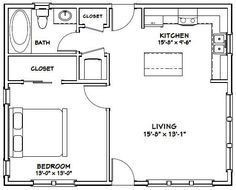door: (108, 156, 138, 190), (79, 86, 112, 109), (111, 4, 134, 33), (53, 28, 80, 51)
room: (1, 3, 235, 189)
wall: (53, 2, 233, 10), (1, 2, 11, 92), (2, 104, 12, 163), (104, 109, 112, 182), (61, 76, 107, 87), (8, 51, 79, 57), (4, 175, 33, 188), (226, 51, 233, 94), (75, 179, 114, 186), (223, 7, 232, 35), (73, 52, 82, 80), (104, 52, 111, 85), (10, 3, 35, 11), (227, 169, 236, 188), (133, 180, 148, 188), (213, 180, 232, 185)
window: (151, 178, 214, 187), (34, 176, 74, 188), (227, 93, 233, 161), (224, 34, 233, 53), (3, 91, 12, 103)
